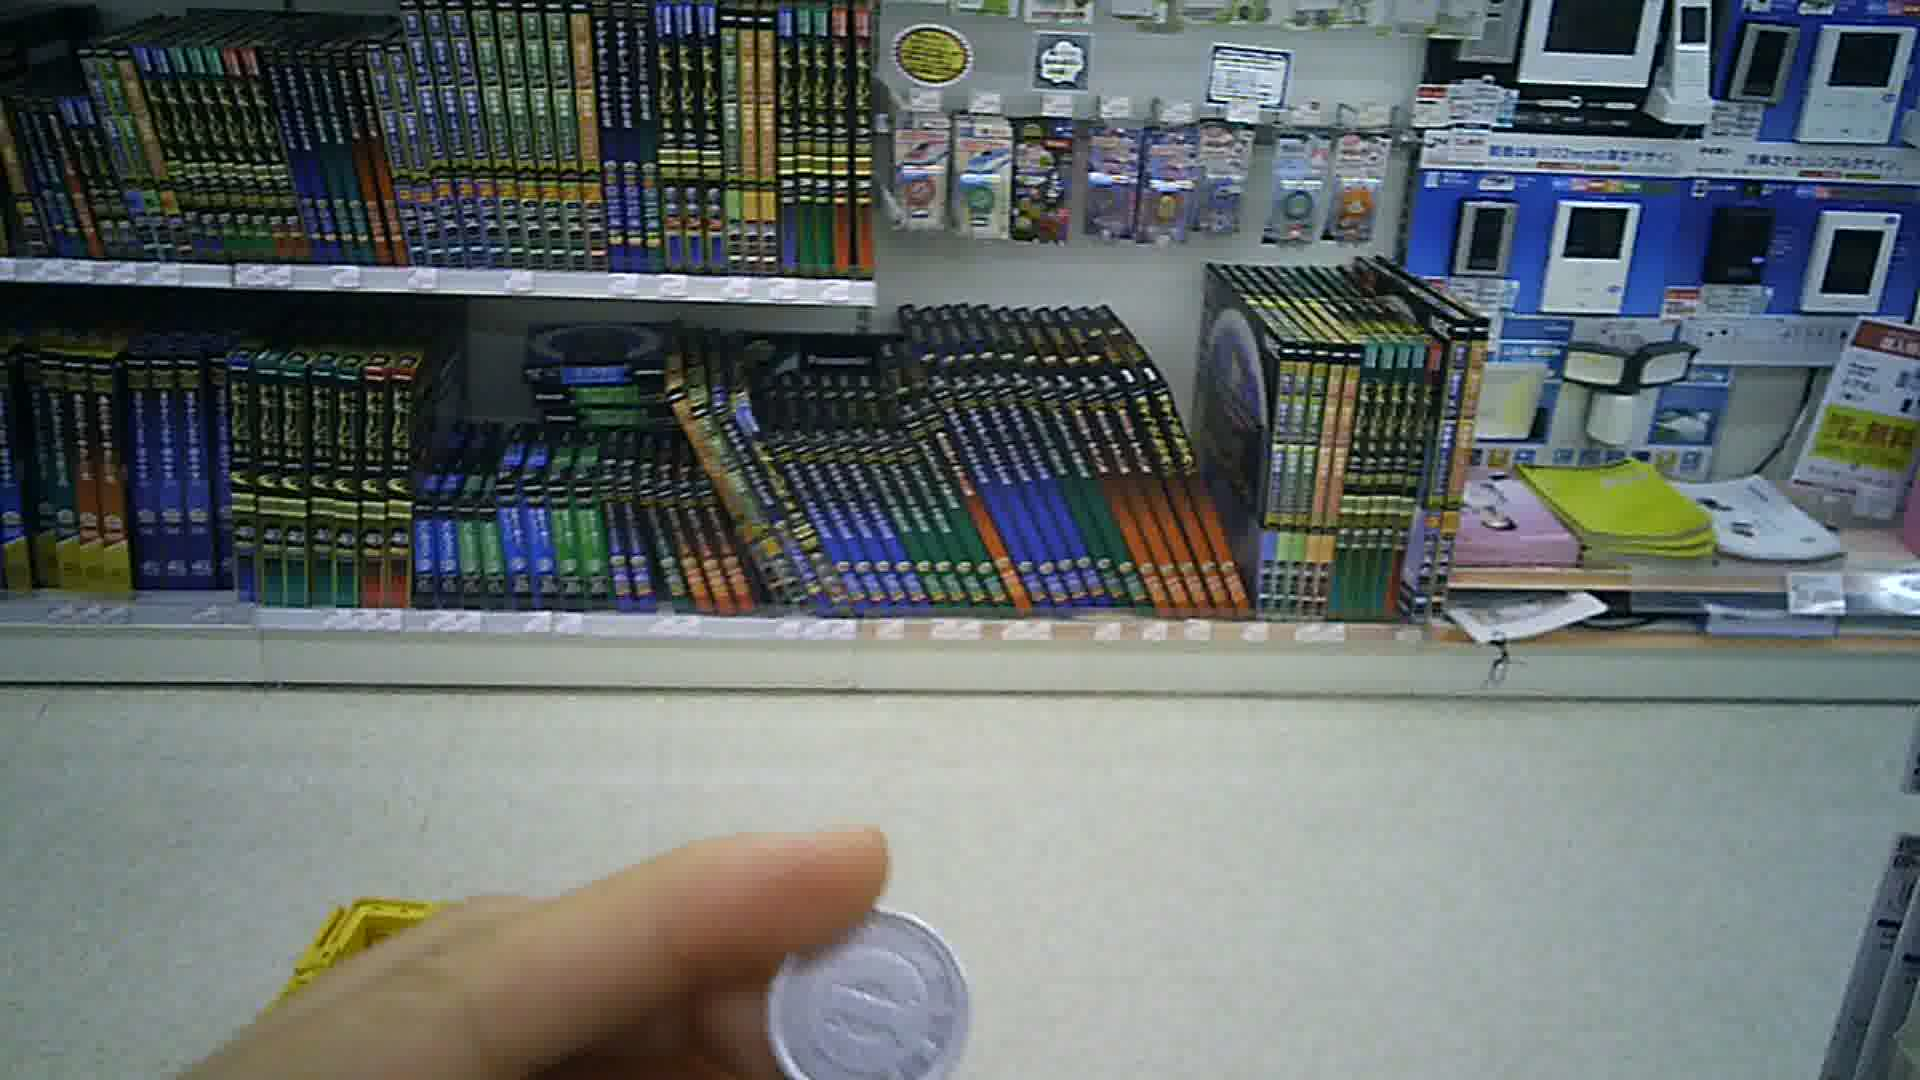1 Yen: (756, 885, 981, 1077)
